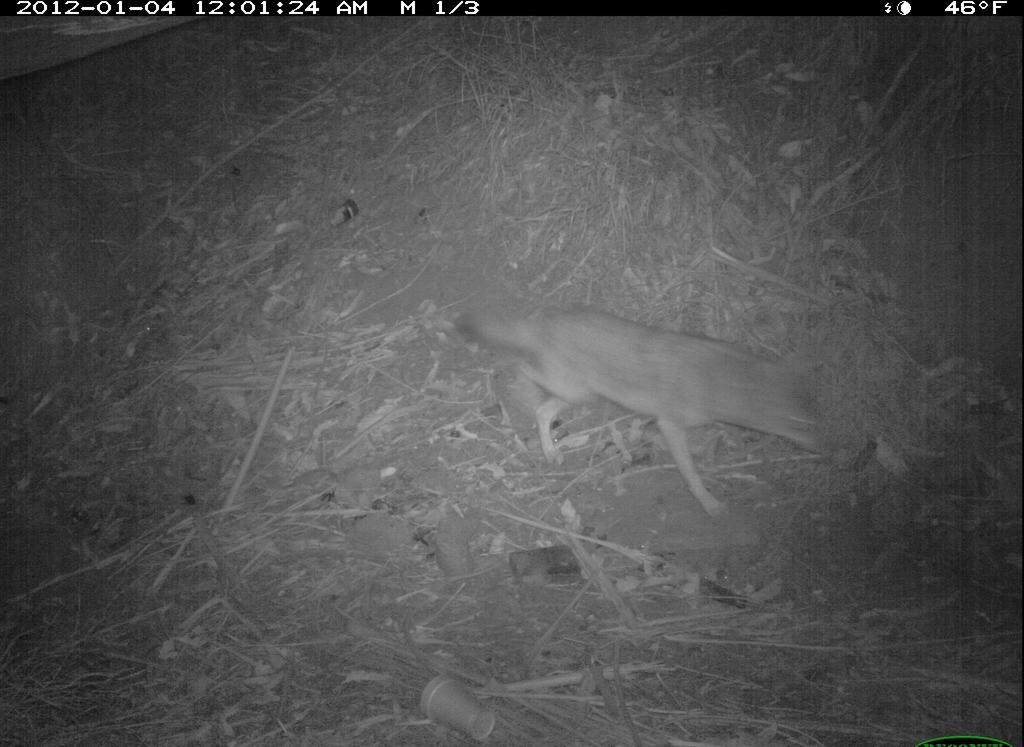coyote: (451, 299, 841, 523)
